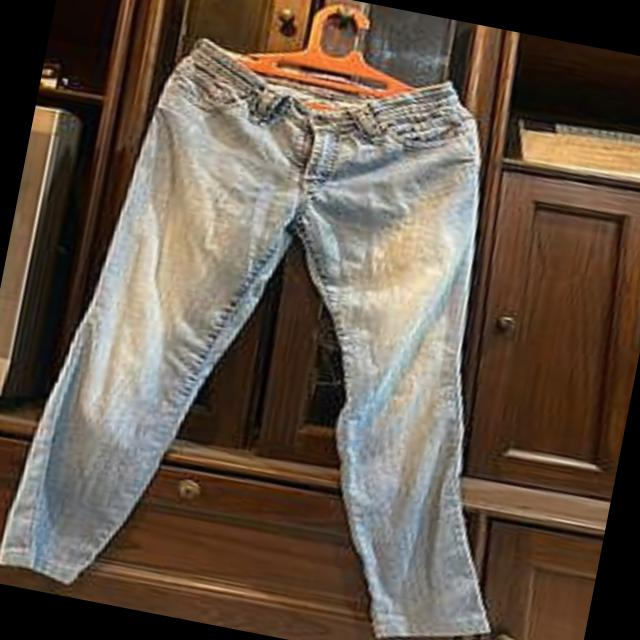TROUSER: (0, 17, 605, 640)
